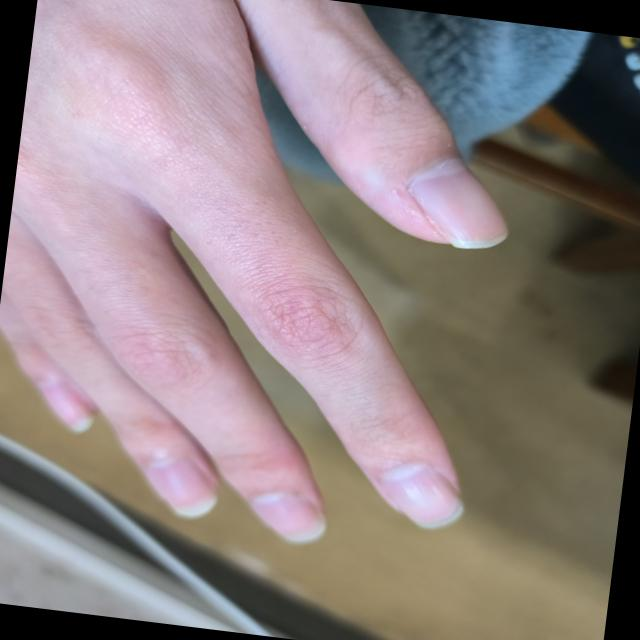Nail: (411, 157, 507, 247), (377, 461, 463, 526), (148, 455, 216, 514), (253, 491, 325, 540), (41, 379, 93, 429)
